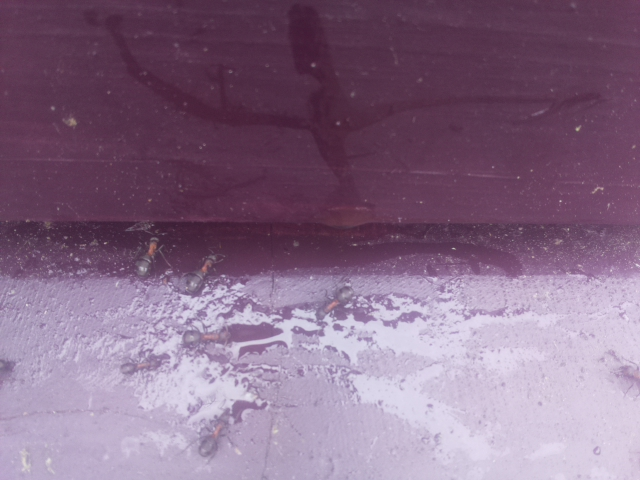ant: (191, 404, 240, 461), (179, 244, 225, 301), (313, 281, 358, 322), (132, 228, 162, 282), (114, 355, 170, 381), (177, 328, 234, 347), (613, 357, 640, 386)
